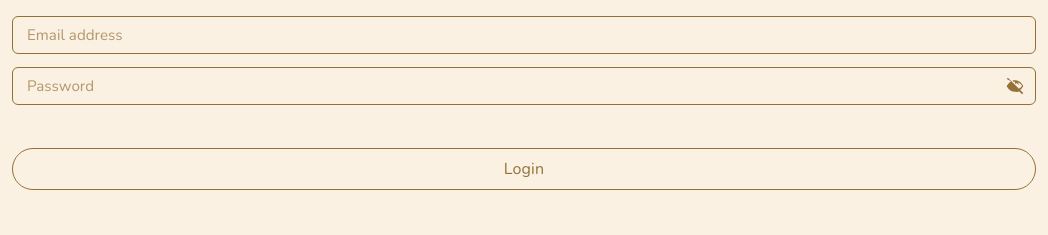
Scenario: AuthForm validation and submit › rejects malformed email
The image size is (1048, 235).
Type "not-an-email" into the field labelled "Email" at (524, 35), box [12,16,1036,54]
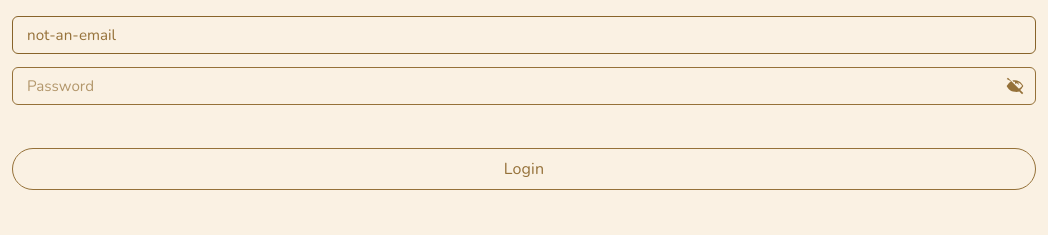
Type "securepass1" into the password field labelled "Password" at (524, 86), box [12,67,1036,105]
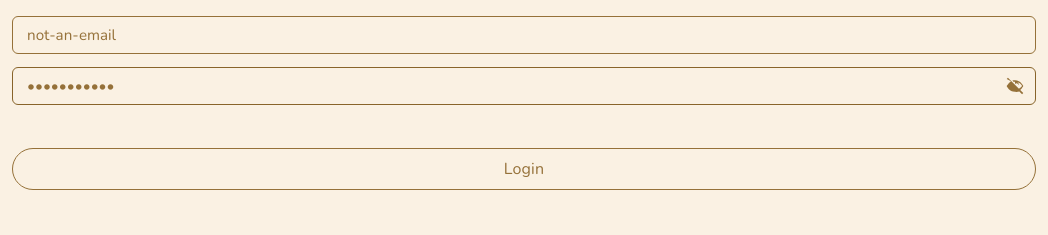
Click the button with test id "auth-submit" at (524, 169), box [12,148,1036,190]
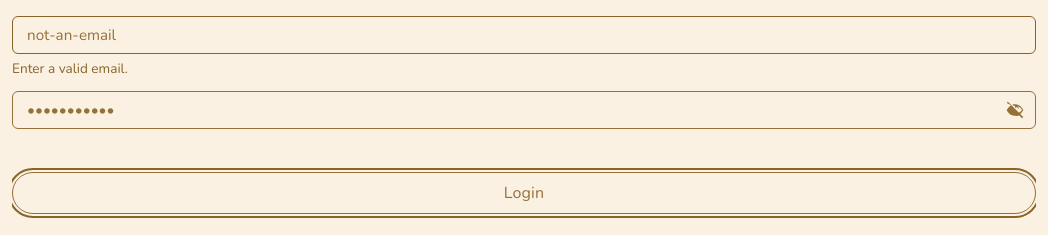
Result: the text "Enter a valid email." is shown at [12,59,128,78]
